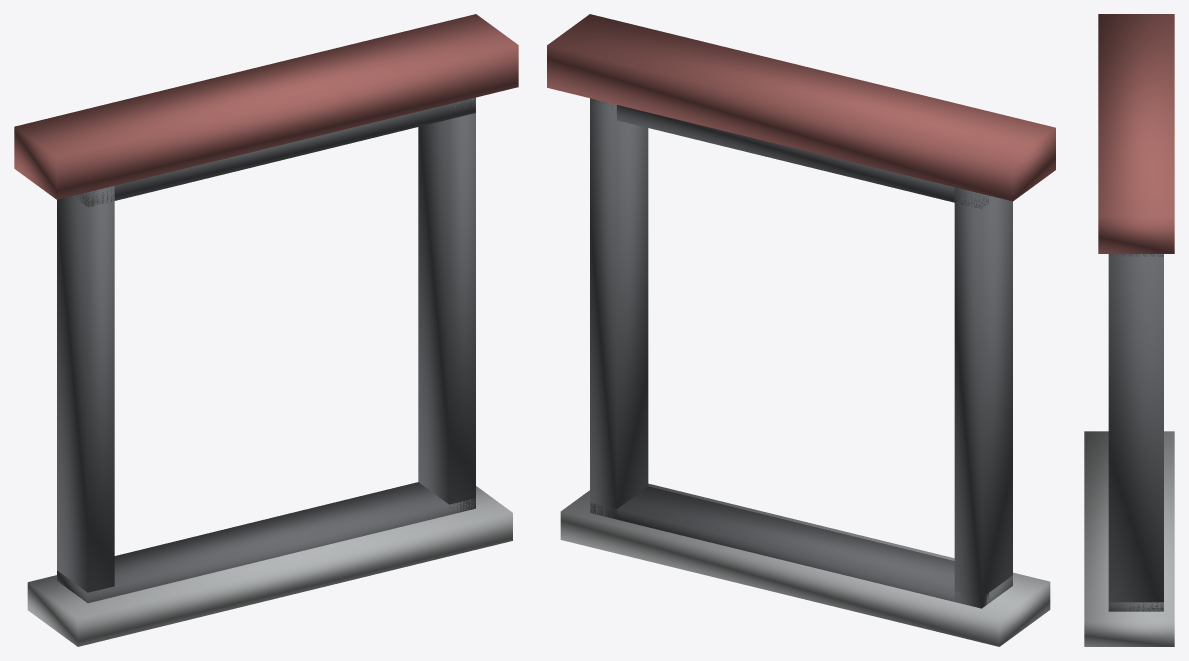
File: egress_window_brick_w100_h110_s72_d16.glb
3 views of the same model, side by side, from view 1: azimuth 30°, elevation 25°; view 2: azimuth 150°, elevation 25°; view 3: azimuth 270°, elevation 25° (orthographic). The views are drawn at different scales.
Visible parts, largest first — view 1: world; view 2: world; view 3: world.
Part boxes in pixels (left/top/right/bottom): world: left=14, top=14, right=518, bottom=646; world: left=547, top=14, right=1055, bottom=646; world: left=1084, top=14, right=1174, bottom=646.
Bounding box in the file's own units: 1.38 × 1.39 × 0.26.
